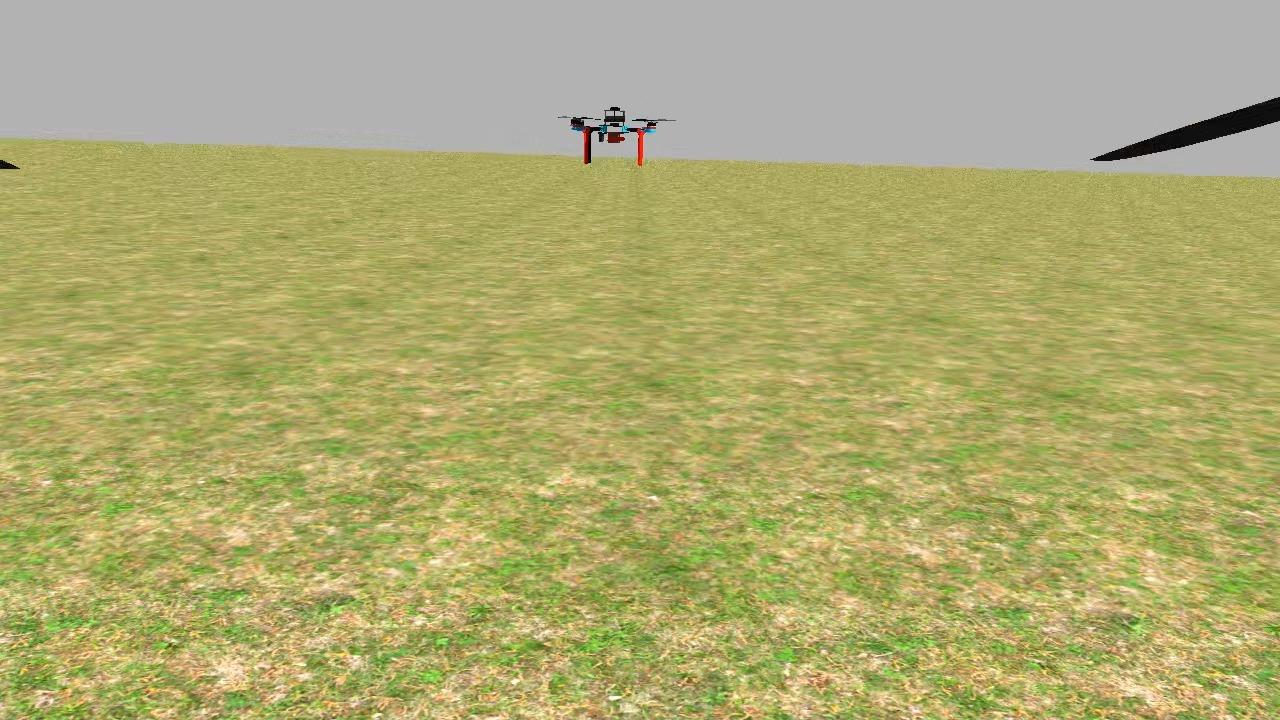UAV: (564, 100, 674, 172)
